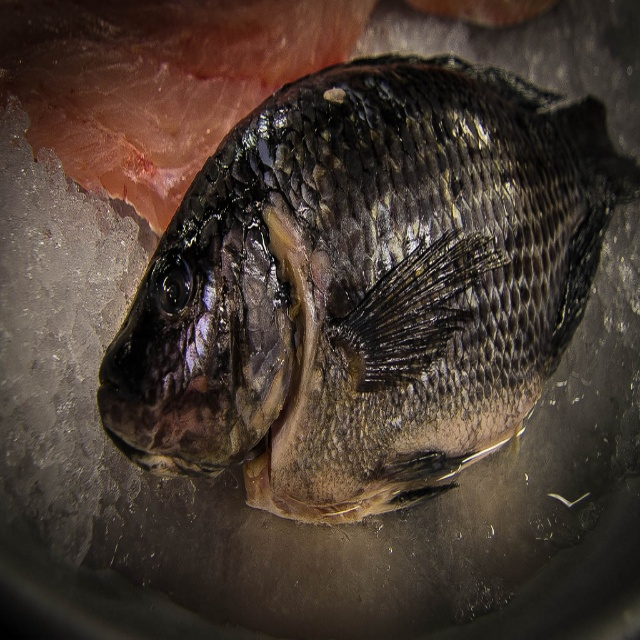Fish: (75, 53, 608, 492)
